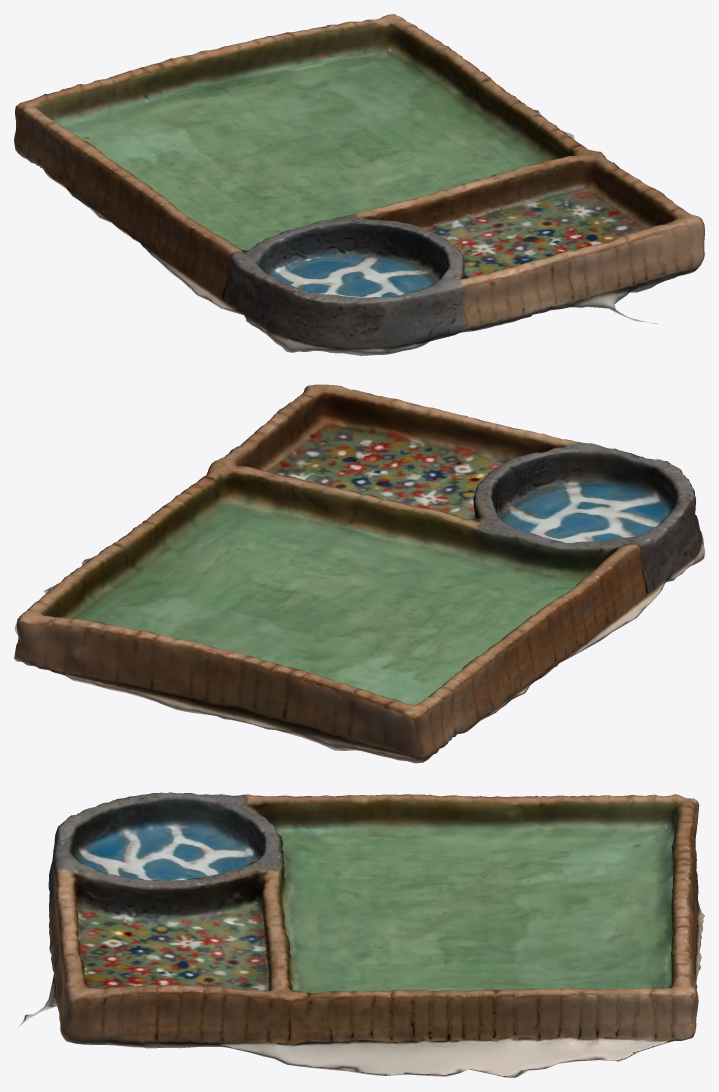
The model's file is garden.glb.
3 renders of one model, top to bottom at view 1: azimuth 30°, elevation 25°; view 2: azimuth 150°, elevation 25°; view 3: azimuth 270°, elevation 25°, orthographic. The views are drawn at different scales.
Bounding box in the file's own units: 0.1832 × 0.0293 × 0.2297.
Materials: 1 (1 with a texture image).
